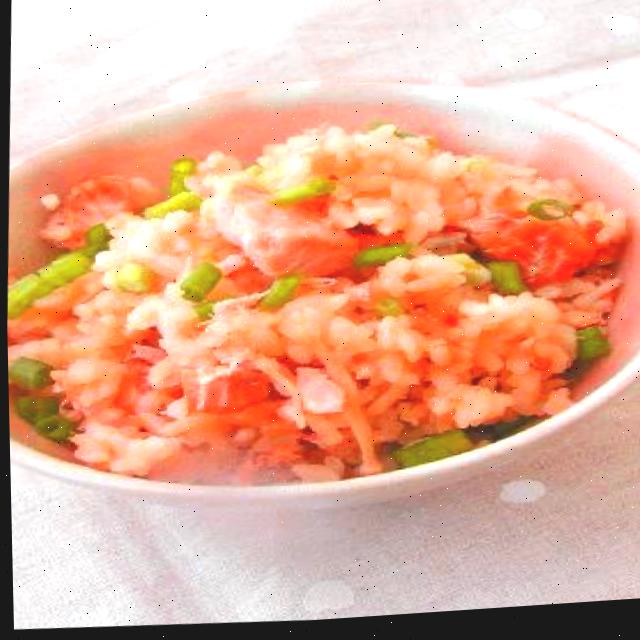米饭主食: (2, 98, 623, 503)
